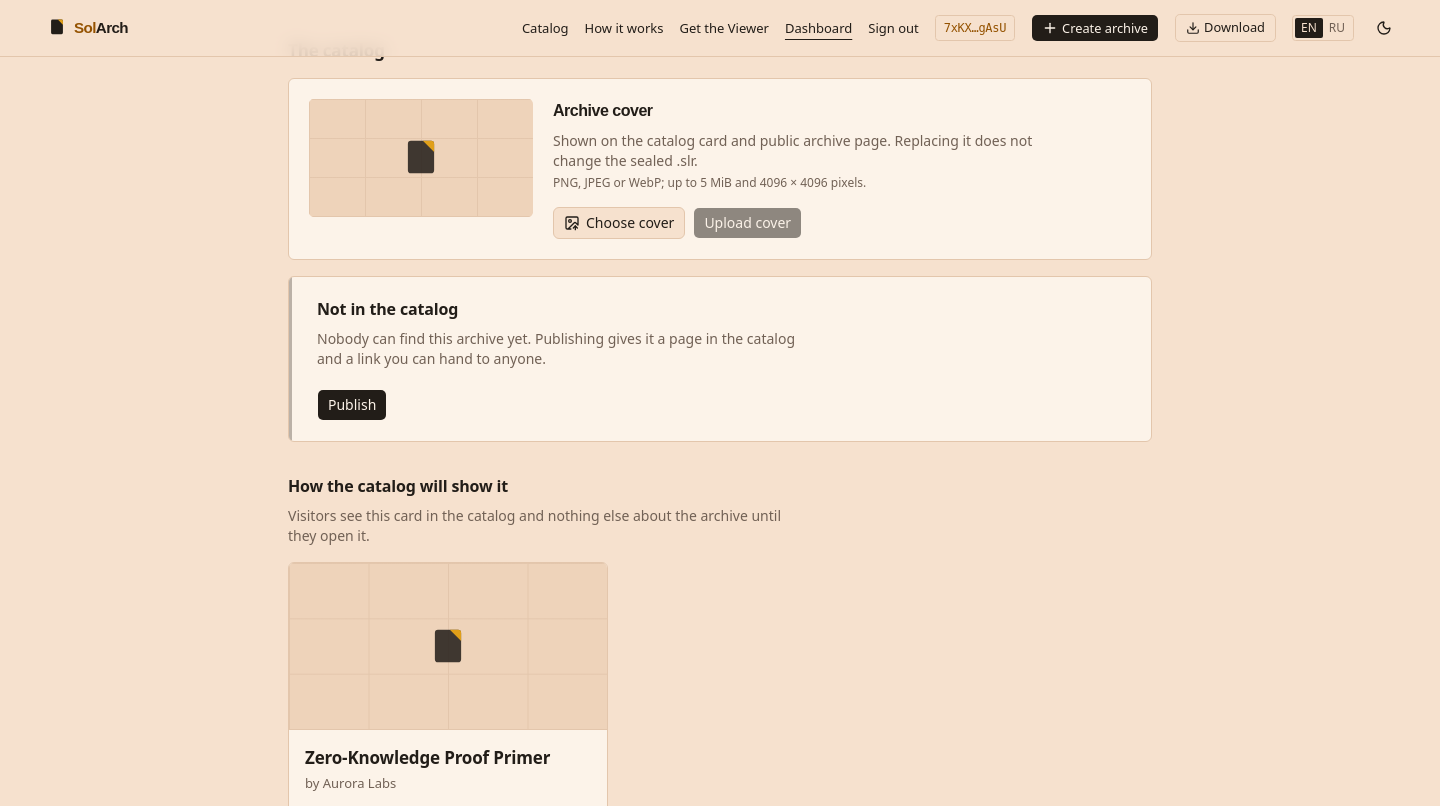
Scenario: витрина архива › показывает отказ backend теми же словами, какими он его сформулировал
(page scrolled)
Expected: the heading "Not in the catalog" is shown, top-left (317, 298), bottom-right (458, 320)
Click the button "Publish": {"x": 352, "y": 405} top-left (317, 389), bottom-right (387, 421)
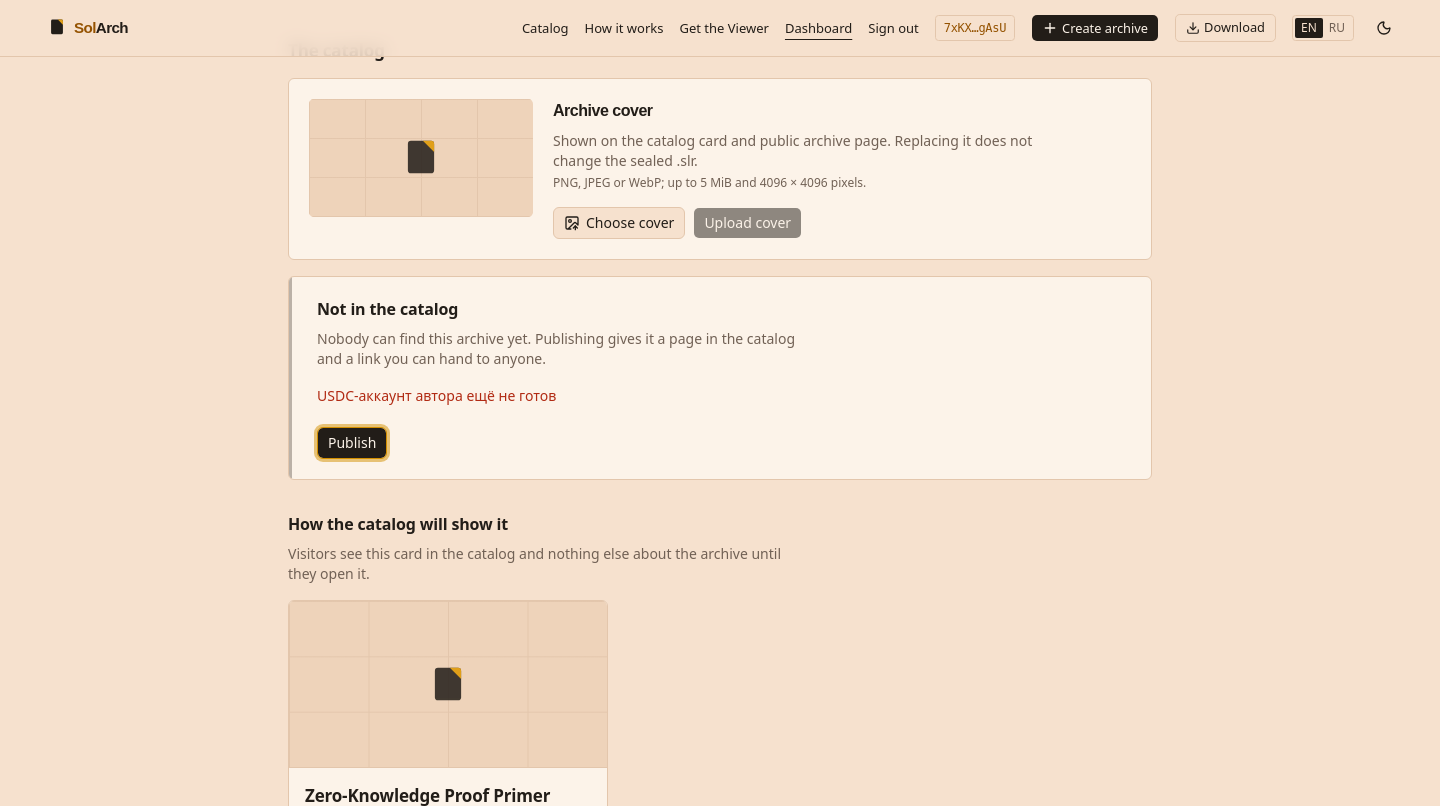
Expected: the heading "Not in the catalog" is shown, top-left (317, 298), bottom-right (458, 320)
Expected: the text "USDC-аккаунт автора ещё не готов" is shown, top-left (317, 386), bottom-right (556, 405)
